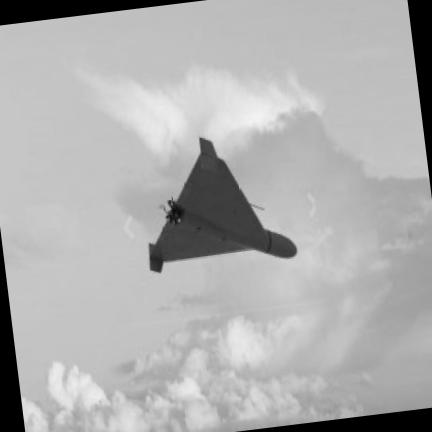Shahed: (148, 138, 296, 273)
